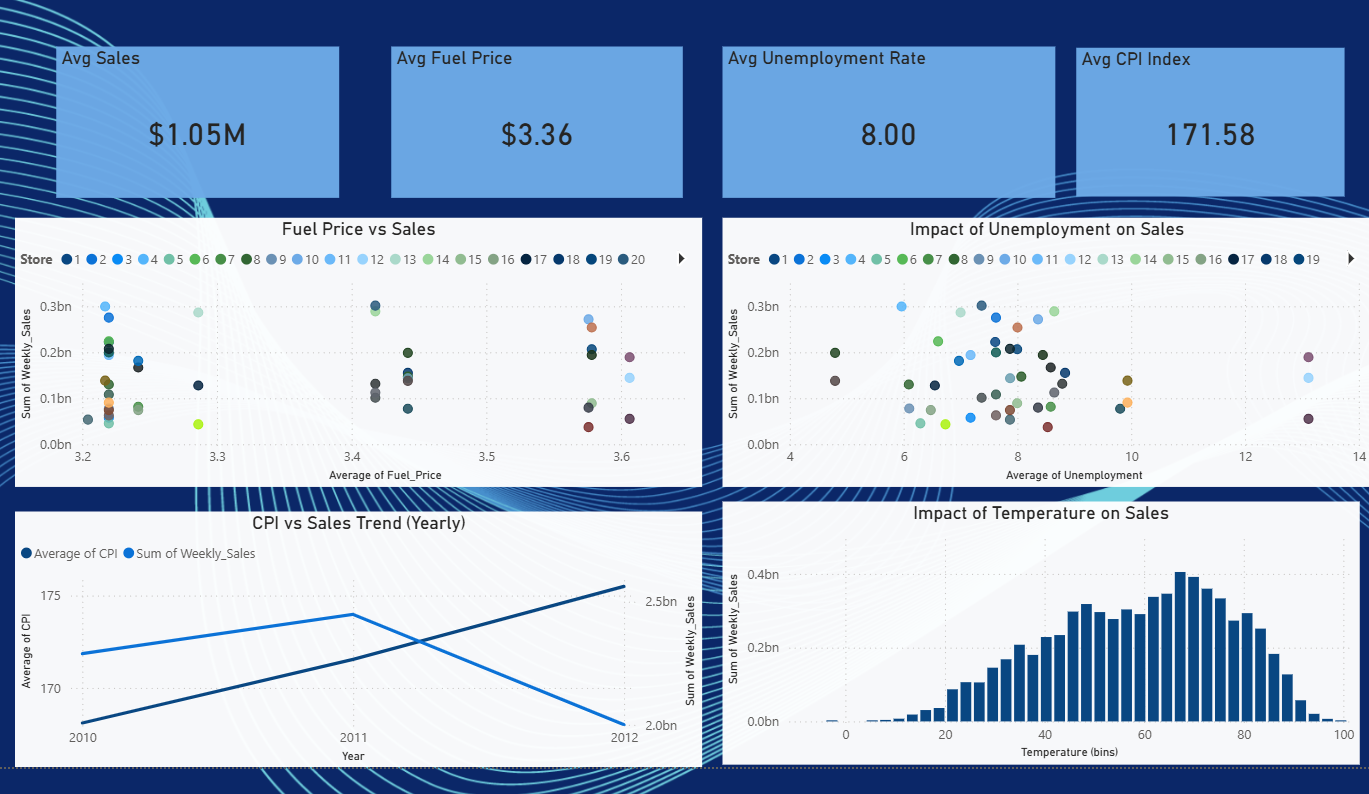

Layout of this report page (visuals, bound fields, positions):
{"tool":"powerbi","page":{"name":"Economic Factors Analysis","canvas":[1280,720],"ordinal":2},"visuals":[{"type":"scatterChart","title":"Impact of Unemployment on Sales","fields":{"X":["Avg(Walmart.Unemployment)"],"Y":["Sum(Walmart.Weekly_Sales)"],"Series":["Walmart.Store"]},"box":[676.2,207.9,604.1,250.7],"z":0},{"type":"scatterChart","title":"Fuel Price vs Sales","fields":{"Series":["Walmart.Store"],"X":["Avg(Walmart.Fuel_Price)"],"Y":["Sum(Walmart.Weekly_Sales)"]},"box":[18.3,207.9,639.5,250.7],"z":1000},{"type":"card","title":"Avg  Sales","fields":{"Values":["Walmart.Average Sales"]},"box":[57.5,48.9,262.9,140.6],"z":3000},{"type":"card","title":"Avg Fuel Price","fields":{"Values":["Avg(Walmart.Fuel_Price)"]},"box":[368.1,48.9,271.5,140.6],"z":4000},{"type":"card","title":"Avg Unemployment Rate","fields":{"Values":["Avg(Walmart.Unemployment)"]},"box":[676.2,48.9,309.4,140.6],"z":5000},{"type":"card","title":"Avg CPI Index","fields":{"Values":["Avg(Walmart.CPI)"]},"box":[1006.4,50.1,249.5,138.2],"z":6000},{"type":"lineChart","title":"CPI vs Sales Trend (Yearly)","fields":{"Category":["Walmart.Date.Variation.Date Hierarchy.Year","Walmart.Date.Variation.Date Hierarchy.Quarter","Walmart.Date.Variation.Date Hierarchy.Month","Walmart.Date.Variation.Date Hierarchy.Day"],"Y":["Avg(Walmart.CPI)"],"Y2":["Sum(Walmart.Weekly_Sales)"]},"box":[18.3,481.8,639.5,238.5],"z":7000},{"type":"columnChart","title":"Impact of Temperature on Sales","fields":{"Y":["Sum(Walmart.Weekly_Sales)"],"Category":["Walmart.Temperature (bins)"]},"box":[676.2,472,593.1,244.6],"z":8000}]}

Visuals, with their boxes in screenshot pixels (x1, y1, x2, y2):
"Impact of Unemployment on Sales" scatterChart: (x1=717, y1=216, x2=1354, y2=480)
"Fuel Price vs Sales" scatterChart: (x1=23, y1=216, x2=697, y2=480)
"Avg  Sales" card: (x1=64, y1=48, x2=342, y2=196)
"Avg Fuel Price" card: (x1=392, y1=48, x2=678, y2=196)
"Avg Unemployment Rate" card: (x1=717, y1=48, x2=1043, y2=196)
"Avg CPI Index" card: (x1=1065, y1=49, x2=1328, y2=195)
"CPI vs Sales Trend (Yearly)" lineChart: (x1=23, y1=505, x2=697, y2=756)
"Impact of Temperature on Sales" columnChart: (x1=717, y1=494, x2=1342, y2=752)
